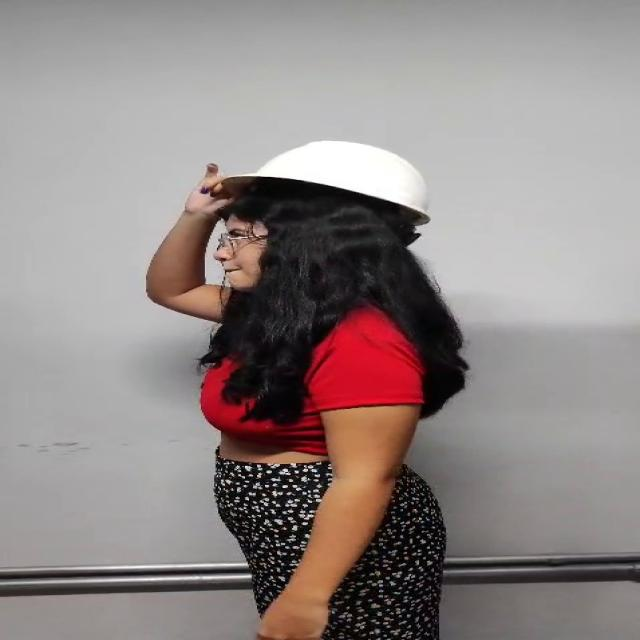capacete: (201, 103, 427, 242)
